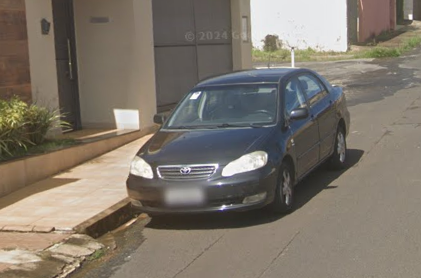car: (122, 53, 355, 223)
